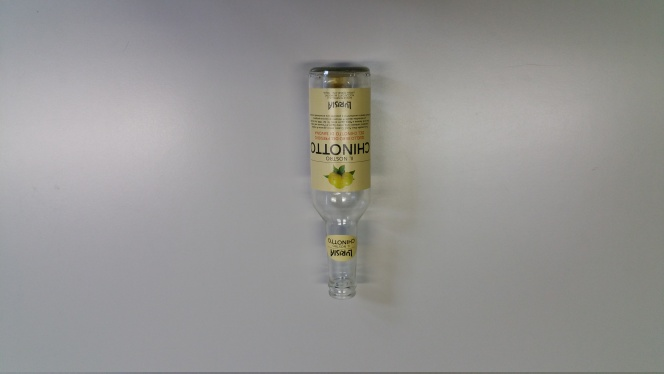bottle: (300, 62, 383, 305)
